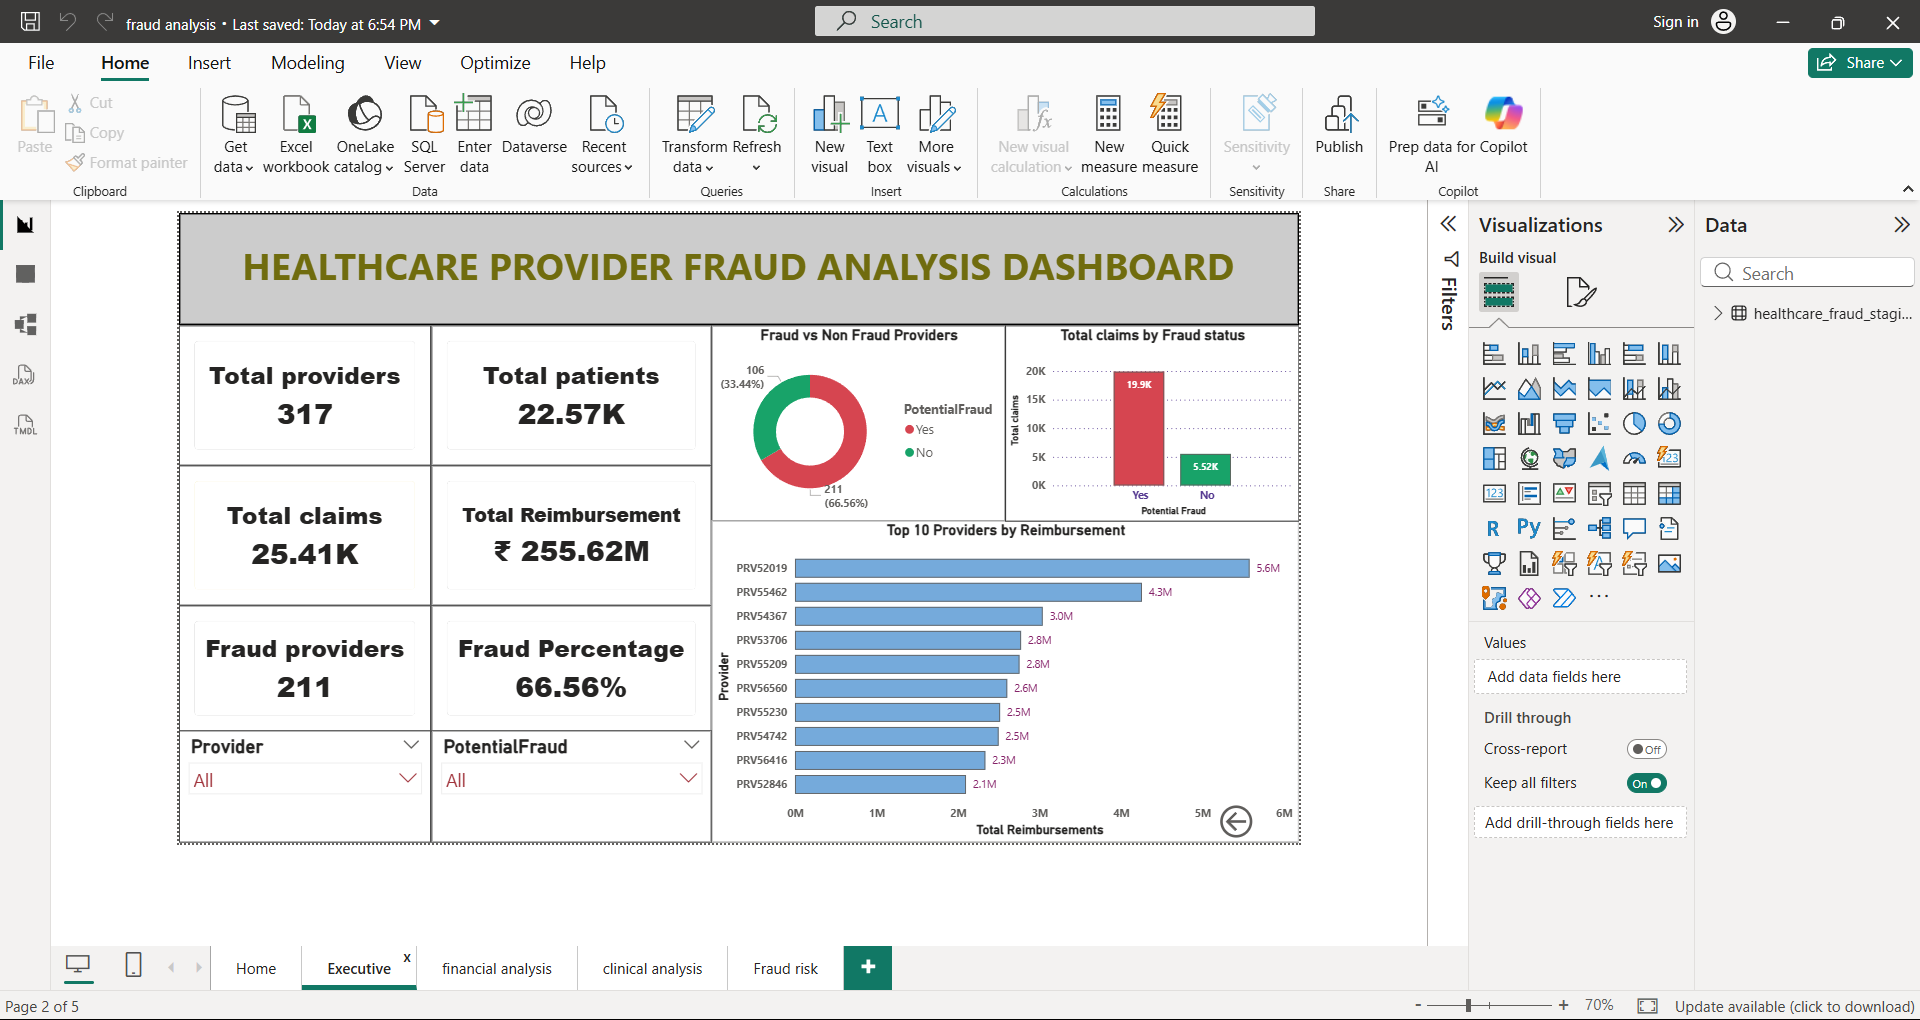

The dashboard page shown, as its layout file describes it:
{"tool":"powerbi","page":{"name":"Executive","canvas":[1280,720],"ordinal":1},"visuals":[{"type":"textbox","box":[0,0,1280,128],"z":0},{"type":"cardVisual","fields":{"Data":["healthcare_fraud_staging provider_summary.Total patients"]},"box":[288,128,320,160],"z":1000},{"type":"cardVisual","fields":{"Data":["healthcare_fraud_staging provider_summary.Total claims"]},"box":[0,288,288,160],"z":2000},{"type":"cardVisual","fields":{"Data":["healthcare_fraud_staging provider_summary.Fraud providers"]},"box":[0,448,288,144],"z":3000},{"type":"cardVisual","fields":{"Data":["healthcare_fraud_staging provider_summary.Total Reimbursement"]},"box":[288,288,320,160],"z":4000},{"type":"cardVisual","fields":{"Data":["healthcare_fraud_staging provider_summary.Fraud Percentage"]},"box":[288,448,320,144],"z":5000},{"type":"cardVisual","fields":{"Data":["healthcare_fraud_staging provider_summary.Total providers"]},"box":[0,128,288,160],"z":6000},{"type":"donutChart","title":"Fraud vs Non Fraud Providers","fields":{"Category":["healthcare_fraud_staging provider_summary.PotentialFraud"],"Y":["CountNonNull(healthcare_fraud_staging provider_summary.provider)"]},"box":[608,128,336,224],"z":7000},{"type":"clusteredBarChart","title":"Top 10 Providers by Reimbursement","fields":{"Y":["Sum(healthcare_fraud_staging provider_summary.total_reimb)"],"Category":["healthcare_fraud_staging provider_summary.provider"]},"box":[608,352,672,368],"z":8000},{"type":"clusteredColumnChart","title":"Total claims by Fraud status","fields":{"Category":["healthcare_fraud_staging provider_summary.PotentialFraud"],"Y":["Sum(healthcare_fraud_staging provider_summary.total_claims)"]},"box":[944,128,336,224],"z":9000},{"type":"slicer","fields":{"Values":["healthcare_fraud_staging provider_summary.provider"]},"box":[0,592,288,128],"z":10000},{"type":"slicer","fields":{"Values":["healthcare_fraud_staging provider_summary.PotentialFraud"]},"box":[288,592,320,128],"z":11000},{"type":"actionButton","box":[1184,672,96,48],"z":12000}]}

Visuals, with their boxes on the page's 1280x720 design canvas (x1, y1, x2, y2). These are canvas units, not pixel positions in the 1920x1020 screenshot, which may show the page scaled, cropped or inside an application window:
textbox: detection(0, 0, 1280, 128)
cardVisual - healthcare_fraud_staging provider_summary.Total patients: detection(288, 128, 608, 288)
cardVisual - healthcare_fraud_staging provider_summary.Total claims: detection(0, 288, 288, 448)
cardVisual - healthcare_fraud_staging provider_summary.Fraud providers: detection(0, 448, 288, 592)
cardVisual - healthcare_fraud_staging provider_summary.Total Reimbursement: detection(288, 288, 608, 448)
cardVisual - healthcare_fraud_staging provider_summary.Fraud Percentage: detection(288, 448, 608, 592)
cardVisual - healthcare_fraud_staging provider_summary.Total providers: detection(0, 128, 288, 288)
"Fraud vs Non Fraud Providers" donutChart: detection(608, 128, 944, 352)
"Top 10 Providers by Reimbursement" clusteredBarChart: detection(608, 352, 1280, 720)
"Total claims by Fraud status" clusteredColumnChart: detection(944, 128, 1280, 352)
slicer - healthcare_fraud_staging provider_summary.provider: detection(0, 592, 288, 720)
slicer - healthcare_fraud_staging provider_summary.PotentialFraud: detection(288, 592, 608, 720)
actionButton: detection(1184, 672, 1280, 720)
